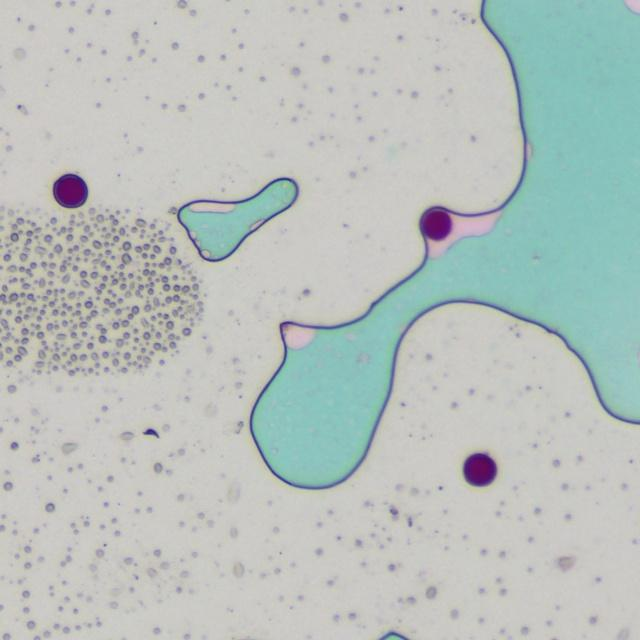viable: (53, 174, 87, 207), (464, 453, 496, 485), (421, 210, 450, 239)
